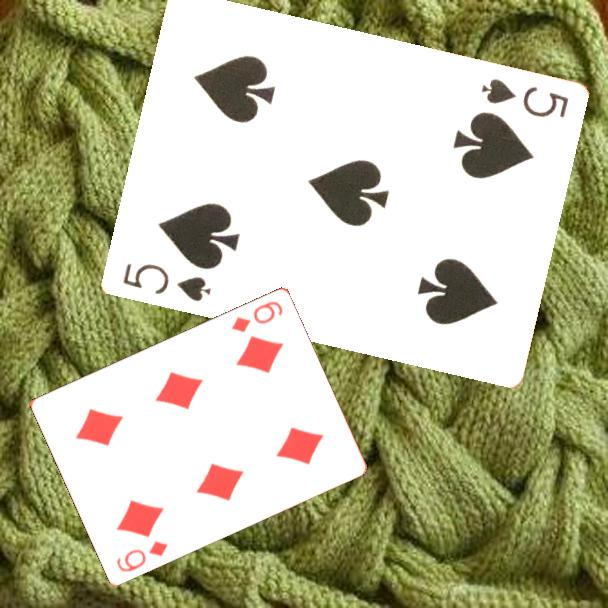d06: (113, 536, 171, 575), (228, 297, 286, 335)
s05: (477, 75, 571, 121), (118, 260, 213, 305)
